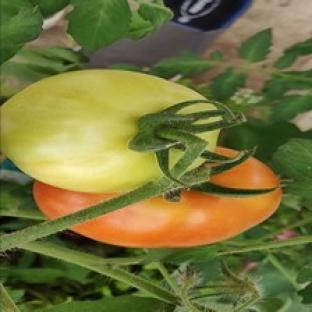Tomato: (2, 70, 206, 192), (73, 158, 281, 247)
